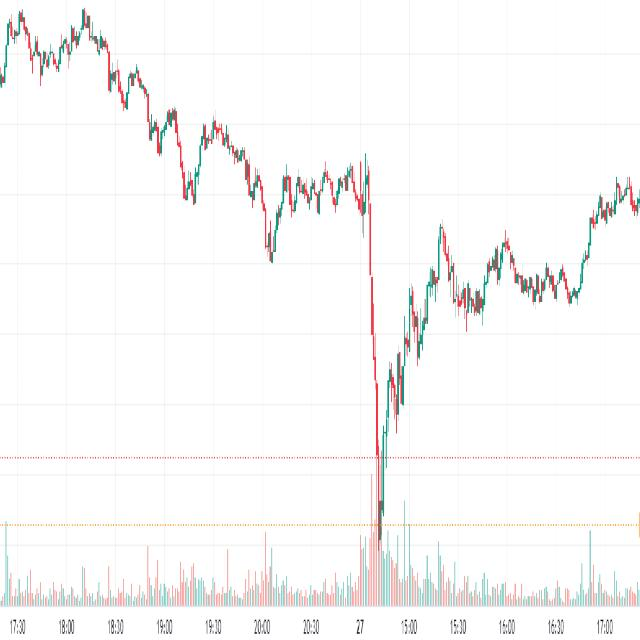Channel-down: (63, 0, 220, 231)
Rising-Wedge: (364, 208, 452, 572)
rectangle: (279, 156, 375, 222)
